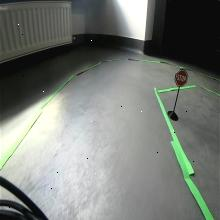stop: (175, 68, 188, 87)
